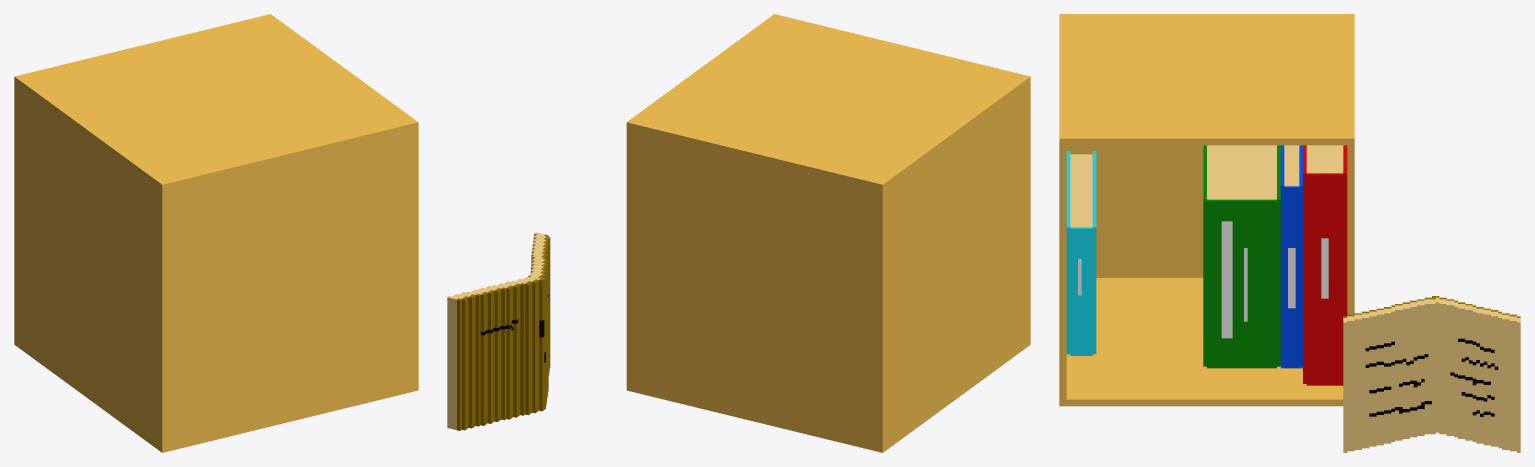
Rendered from Library.obj.
3 renders of one model, left to right at view 1: azimuth 30°, elevation 25°; view 2: azimuth 150°, elevation 25°; view 3: azimuth 270°, elevation 25°, orthographic.
Bounding box in the file's own units: 110 × 80 × 125.
Materials: 1 (1 with a texture image).
